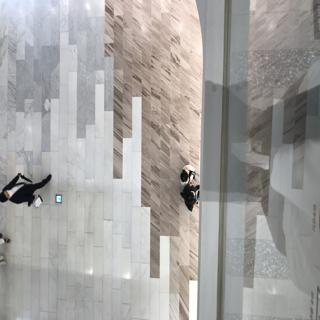person: (1, 173, 58, 208), (171, 157, 200, 184), (183, 188, 204, 217)
